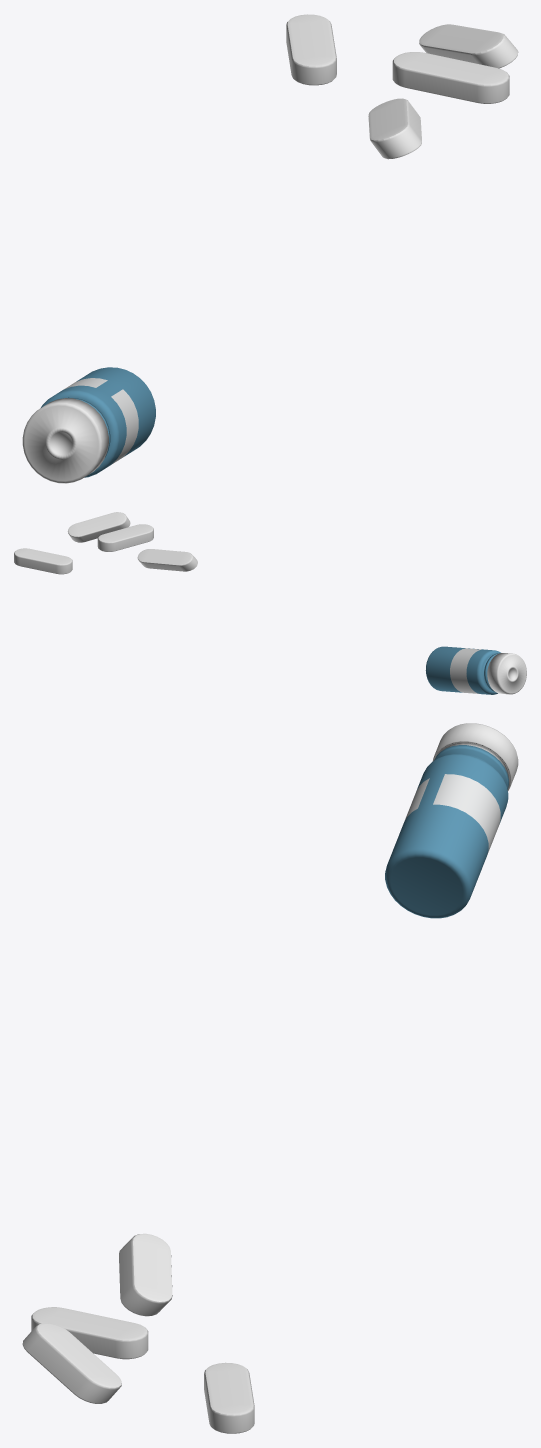
The model's file is Pastillas.fbx.
3 views of the same model, one above another, from view 1: azimuth 90°, elevation 25°; view 2: azimuth 150°, elevation 25°; view 3: azimuth 270°, elevation 25° (orthographic). The views are drawn at different scales.
Visible parts, largest first — view 1: polySurface3347; view 2: polySurface3347; view 3: polySurface3347.
Part boxes in pixels (x1,y1,x2,y2): polySurface3347: (22,14,518,483); polySurface3347: (14,512,526,694); polySurface3347: (22,723,518,1433).
Size of the model in its own units: 146 by 21.06 by 55.32.
